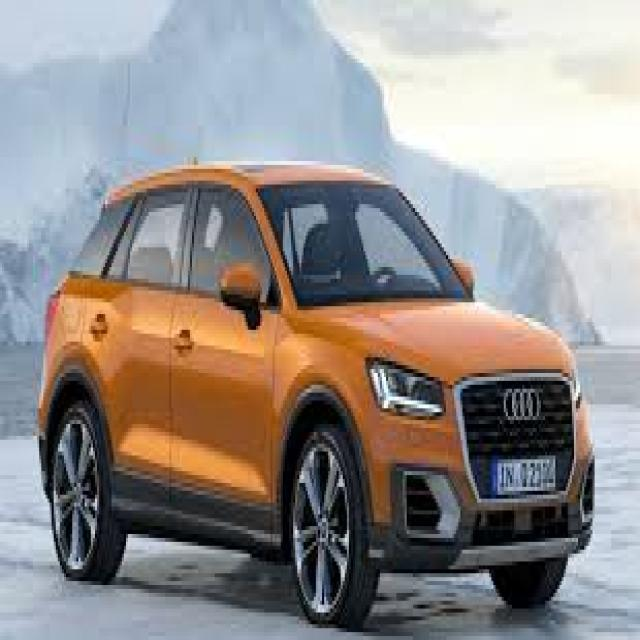SUV: (40, 153, 592, 631)
